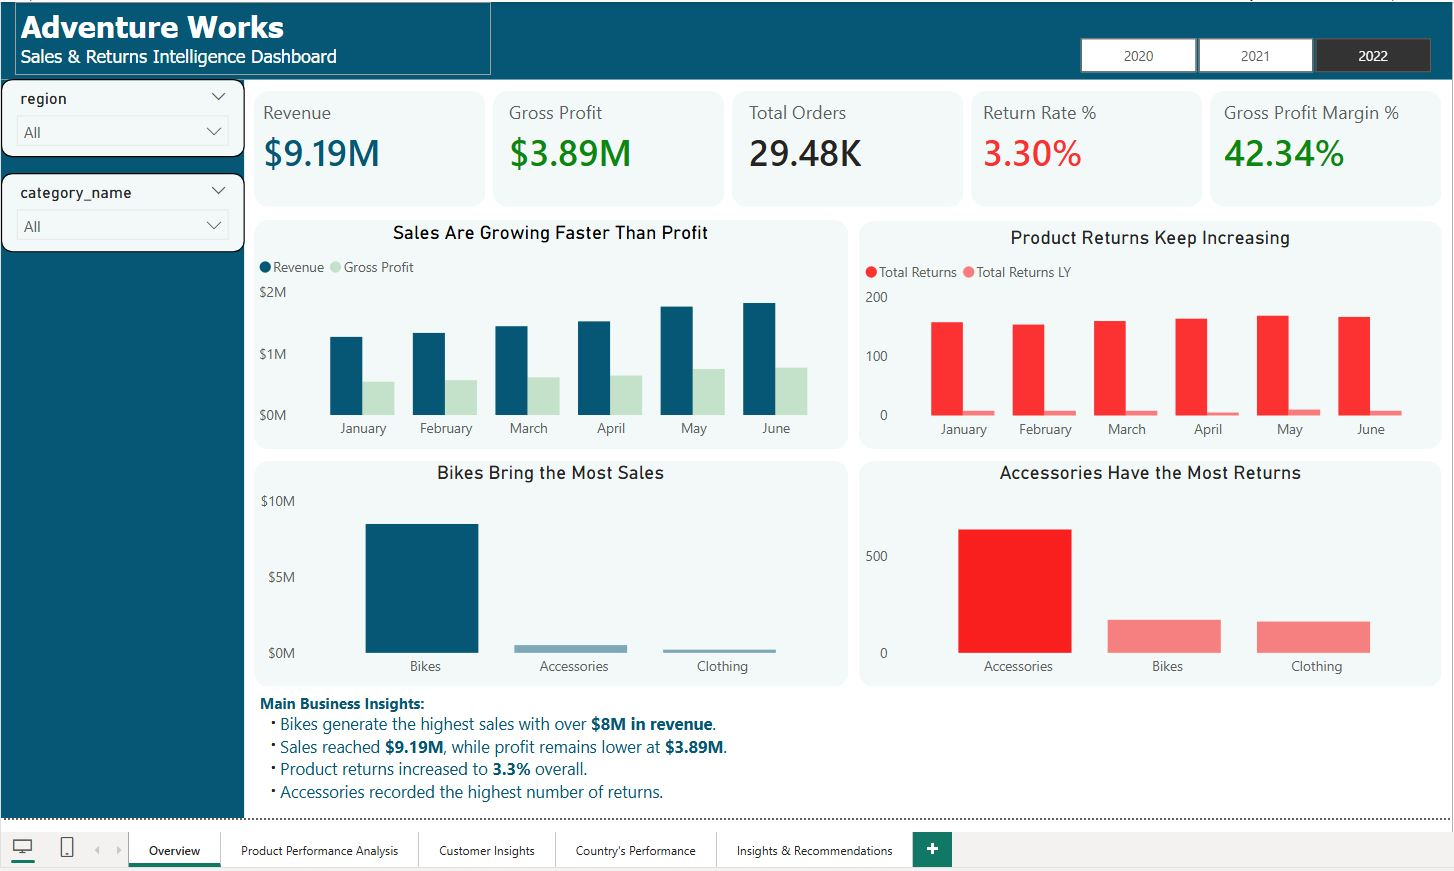

This screenshot's page, from the dashboard's own definition file:
{"tool":"powerbi","page":{"name":"Overview","canvas":[1280,720],"ordinal":0},"visuals":[{"type":"shape","box":[0,0,1280,68.5],"z":0},{"type":"shape","box":[0,68.5,214.7,651.1],"z":1000},{"type":"textbox","box":[12.1,0,420.3,64.5],"z":2000},{"type":"slicer","fields":{"Values":["calendar.Year"]},"box":[931.3,30.2,348.7,34.3],"z":3000},{"type":"slicer","fields":{"Values":["dim_product_categories.category_name"]},"box":[0,150.7,214.7,70.2],"z":4000},{"type":"slicer","fields":{"Values":["dim_territory.region"]},"box":[0,68.1,214.7,69.2],"z":5000},{"type":"shape","box":[223.3,78.9,204.4,102.2],"z":6000},{"type":"shape","box":[434.2,78.9,204.4,102.2],"z":7000},{"type":"shape","box":[645,78.9,204.4,102.2],"z":8000},{"type":"shape","box":[855.8,78.9,204.4,102.2],"z":9000},{"type":"shape","box":[1066.7,78.9,204.4,102.2],"z":10000},{"type":"shape","box":[223.3,192.2,524.4,202.2],"z":11000},{"type":"shape","box":[756.7,193.3,514.4,201.1],"z":12000},{"type":"shape","box":[223,404.6,524.4,199.2],"z":13000},{"type":"shape","box":[756.6,404.6,514.1,199.2],"z":14000},{"type":"cardVisual","fields":{"Data":["#measures.Revenue"]},"box":[231.1,78.9,112.2,102.2],"z":15000},{"type":"cardVisual","fields":{"Data":["#measures.Gross Profit"]},"box":[448,78.5,168.3,102.2],"z":16000},{"type":"cardVisual","fields":{"Data":["#measures.Total Orders"]},"box":[660,78.9,112.2,102.2],"z":17000},{"type":"cardVisual","fields":{"Data":["#measures.Return Rate %"]},"box":[866.7,78.9,112.2,102.2],"z":18000},{"type":"cardVisual","fields":{"Data":["#measures.Gross Profit Margin %"]},"box":[1078.9,78.9,168.9,102.2],"z":19000},{"type":"lineClusteredColumnComboChart","title":"Sales Are Growing Faster Than Profit","fields":{"Category":["calendar.Month Name"],"Y":["#measures.Revenue","#measures.Gross Profit"]},"box":[222.3,193.2,524.9,201.1],"z":20000},{"type":"clusteredColumnChart","title":"Product Returns Keep Increasing","fields":{"Category":["calendar.Month Name"],"Y":["#measures.Total Returns","#measures.Total Returns LY"]},"box":[756.6,197.2,514.1,197.2],"z":21000},{"type":"clusteredColumnChart","title":"Bikes Bring the Most Sales","fields":{"Category":["dim_product_categories.category_name"],"Y":["#measures.Revenue"]},"box":[223,404.6,523.4,199.2],"z":22000},{"type":"clusteredColumnChart","title":"Accessories Have the Most Returns","fields":{"Category":["dim_product_categories.category_name"],"Y":["#measures.Total Returns"]},"box":[756.6,404.6,514.1,199.2],"z":23000},{"type":"textbox","box":[223,603.9,560.5,115.6],"z":25000}]}

Visuals, with their boxes on the page's 1280x720 design canvas (x1, y1, x2, y2). These are canvas units, not pixel positions in the 1454x871 screenshot, which may show the page scaled, cropped or inside an application window:
shape: x1=0 y1=0 x2=1280 y2=68
shape: x1=0 y1=68 x2=215 y2=720
textbox: x1=12 y1=0 x2=432 y2=64
slicer - calendar.Year: x1=931 y1=30 x2=1280 y2=64
slicer - dim_product_categories.category_name: x1=0 y1=151 x2=215 y2=221
slicer - dim_territory.region: x1=0 y1=68 x2=215 y2=137
shape: x1=223 y1=79 x2=428 y2=181
shape: x1=434 y1=79 x2=639 y2=181
shape: x1=645 y1=79 x2=849 y2=181
shape: x1=856 y1=79 x2=1060 y2=181
shape: x1=1067 y1=79 x2=1271 y2=181
shape: x1=223 y1=192 x2=748 y2=394
shape: x1=757 y1=193 x2=1271 y2=394
shape: x1=223 y1=405 x2=747 y2=604
shape: x1=757 y1=405 x2=1271 y2=604
cardVisual - #measures.Revenue: x1=231 y1=79 x2=343 y2=181
cardVisual - #measures.Gross Profit: x1=448 y1=78 x2=616 y2=181
cardVisual - #measures.Total Orders: x1=660 y1=79 x2=772 y2=181
cardVisual - #measures.Return Rate %: x1=867 y1=79 x2=979 y2=181
cardVisual - #measures.Gross Profit Margin %: x1=1079 y1=79 x2=1248 y2=181
"Sales Are Growing Faster Than Profit" lineClusteredColumnComboChart: x1=222 y1=193 x2=747 y2=394
"Product Returns Keep Increasing" clusteredColumnChart: x1=757 y1=197 x2=1271 y2=394
"Bikes Bring the Most Sales" clusteredColumnChart: x1=223 y1=405 x2=746 y2=604
"Accessories Have the Most Returns" clusteredColumnChart: x1=757 y1=405 x2=1271 y2=604
textbox: x1=223 y1=604 x2=784 y2=720
